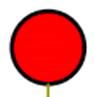red_circle: (8, 8, 88, 89)
